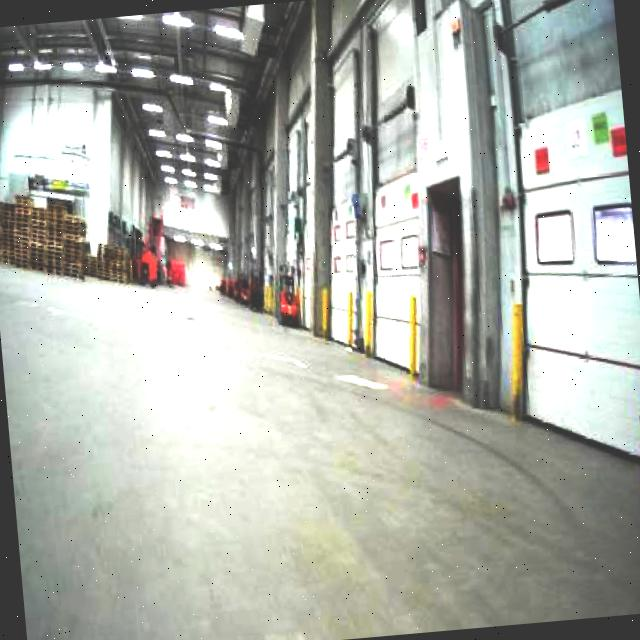ground: (0, 186, 640, 640)
pallet: (0, 177, 147, 295), (629, 337, 640, 465)
